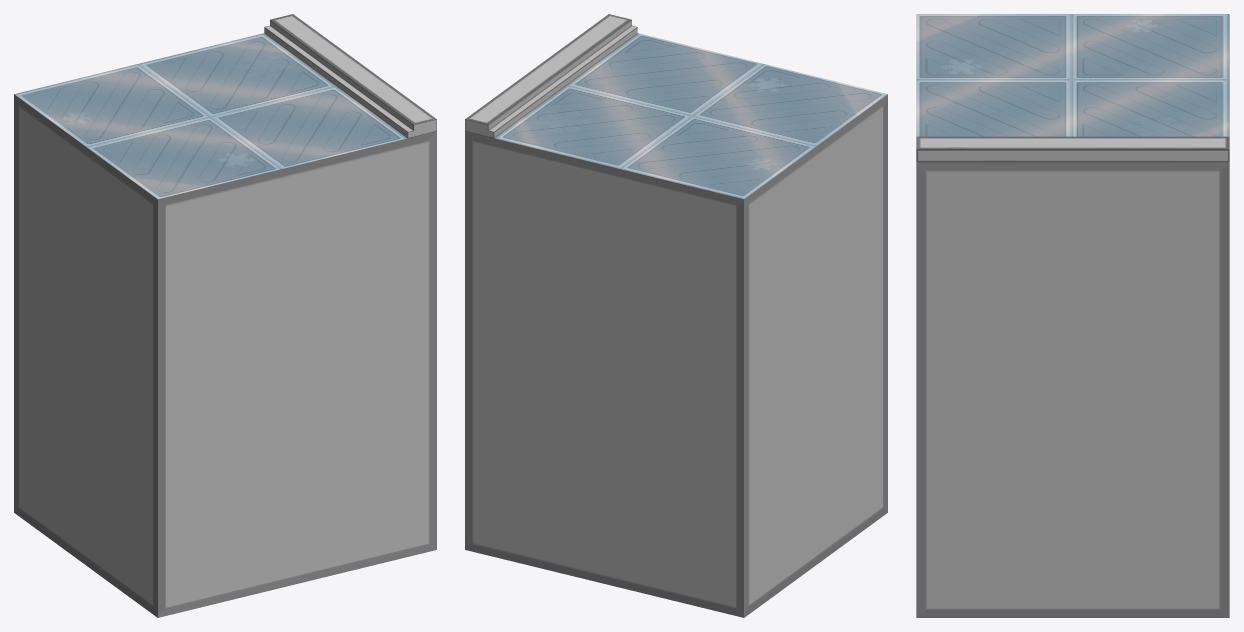
Rendered from Stage_FrozenFloor2.fbx.
3 renders of one model, left to right at view 1: azimuth 30°, elevation 25°; view 2: azimuth 150°, elevation 25°; view 3: azimuth 270°, elevation 25°, orthographic. The views are drawn at different scales.
Visible parts, largest first — view 1: h; view 2: h; view 3: h.
Part boxes in pixels (x1,y1,x2,y2): h: [14, 14, 436, 617]; h: [465, 14, 887, 617]; h: [916, 14, 1229, 617].
Size of the model in its own units: 26.09 by 38.47 by 23.28.
